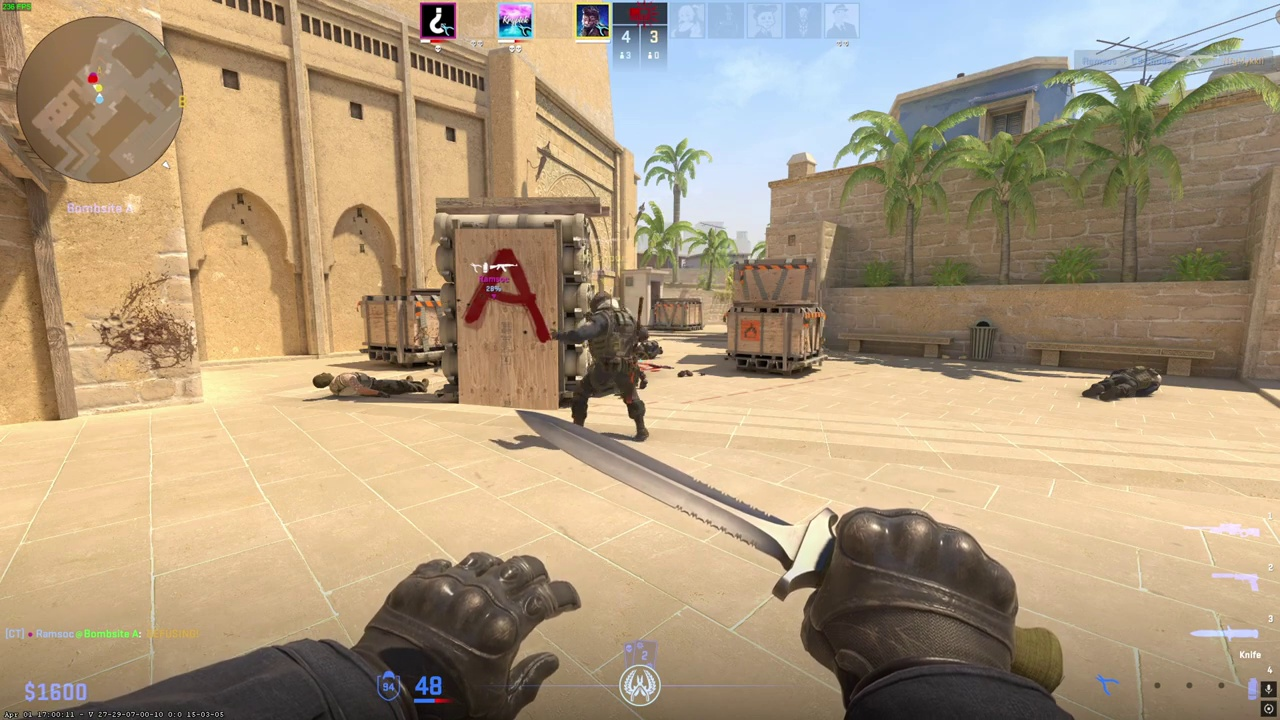CT: (564, 291, 649, 440)
